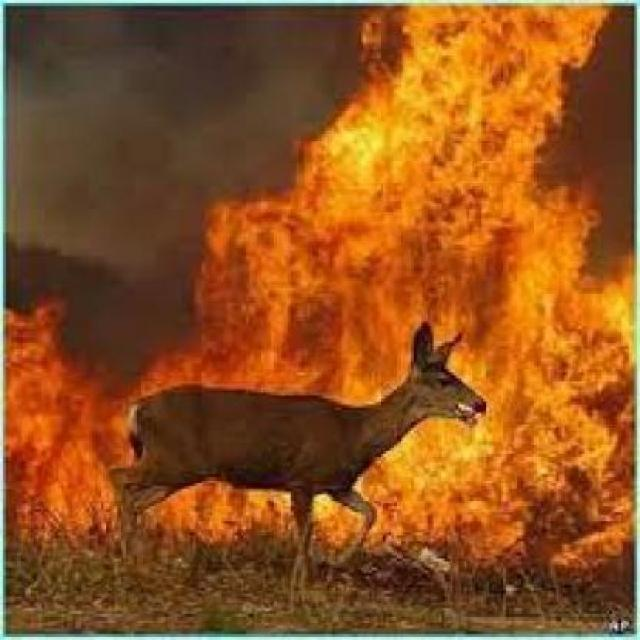Fire: (7, 0, 626, 611)
